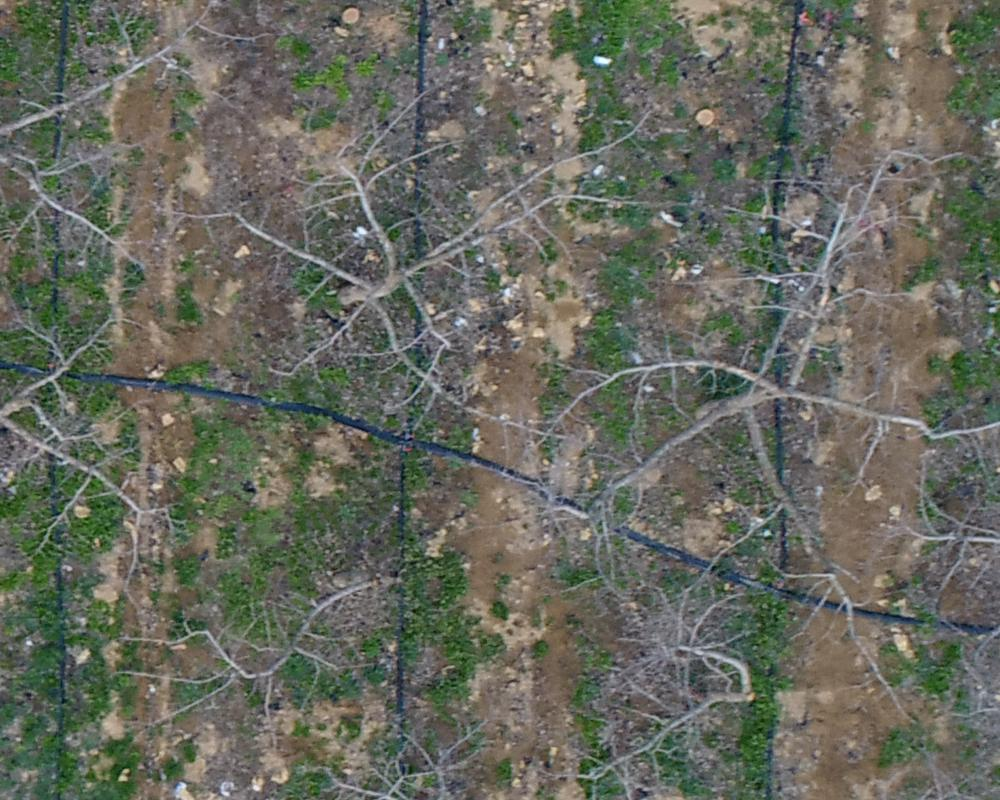apple: (152, 62, 654, 473), (541, 121, 990, 561), (543, 487, 831, 790), (10, 10, 260, 299), (132, 570, 434, 747)
